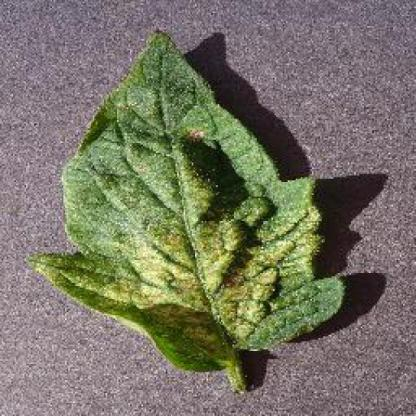Tomato_Spider_Mites: (29, 29, 344, 370)
